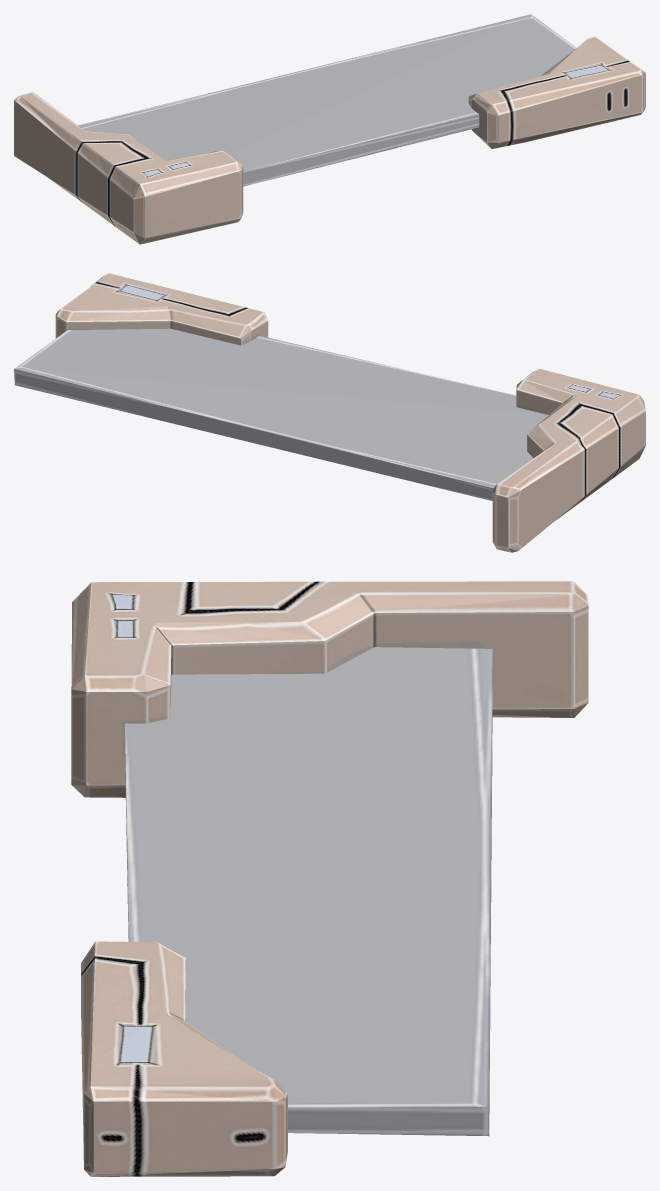
File: tablerofuturo.obj
The picture shows the model from 3 angles, top to bottom: view 1: azimuth 30°, elevation 25°; view 2: azimuth 150°, elevation 25°; view 3: azimuth 270°, elevation 25°; orthographic projection. The views are drawn at different scales.
Parts seen in each view (by area): view 1: Object.2, Object.1; view 2: Object.2, Object.1; view 3: Object.2, Object.1.
Boxes of the visible parts, x1,y1,x2,y2 form: Object.2: (78, 14, 576, 186); Object.1: (14, 36, 645, 244); Object.2: (14, 328, 548, 500); Object.1: (55, 273, 645, 552); Object.2: (125, 647, 492, 1136); Object.1: (71, 581, 588, 1176).
Bounding box in the file's own units: 982 × 113 × 429.
Materials: 2 (2 with a texture image).
